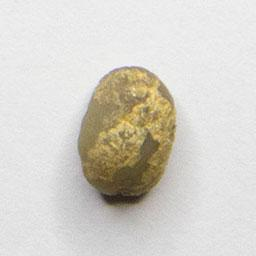peaberry: (74, 61, 180, 201)
